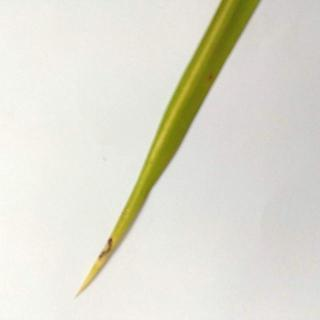Blast: (91, 228, 119, 277)
